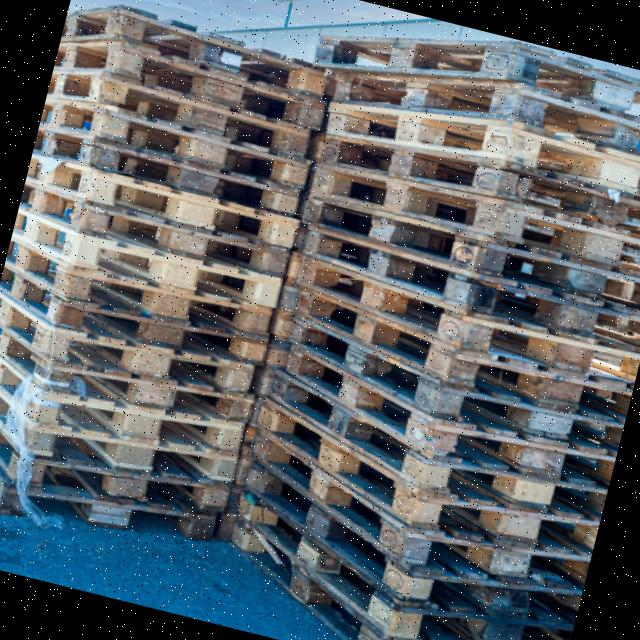Wooden-Pallets: (252, 394, 592, 566), (259, 336, 613, 497), (289, 248, 638, 388), (311, 127, 640, 245), (311, 36, 640, 127), (57, 158, 299, 258), (54, 219, 292, 319), (10, 388, 236, 471), (32, 325, 262, 402)
